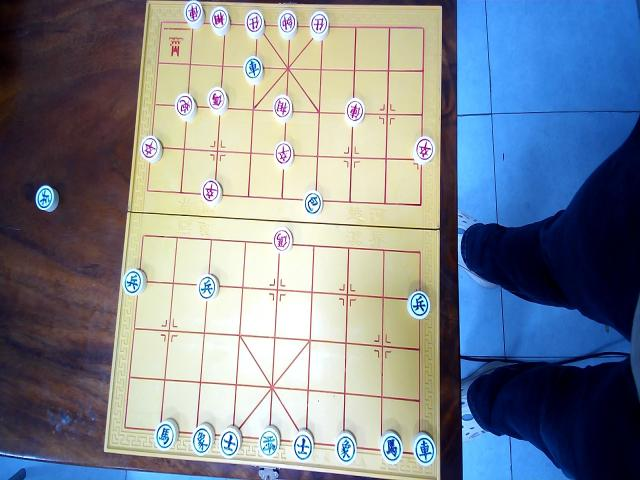piece: (413, 432, 436, 466), (154, 419, 178, 451), (380, 430, 402, 464), (191, 423, 214, 455), (335, 431, 356, 465), (258, 426, 280, 458), (219, 426, 241, 458), (122, 268, 146, 295), (407, 291, 430, 319), (293, 429, 313, 461), (175, 92, 197, 121), (413, 136, 435, 165), (209, 6, 230, 36), (140, 135, 162, 163), (35, 185, 58, 211), (197, 274, 219, 301), (274, 141, 294, 170), (184, 0, 204, 29), (243, 56, 263, 85), (278, 10, 297, 40), (201, 179, 222, 206), (208, 87, 228, 115), (273, 94, 292, 123), (345, 98, 364, 127), (245, 10, 264, 39), (310, 11, 328, 41), (272, 227, 292, 253), (304, 190, 323, 216)
